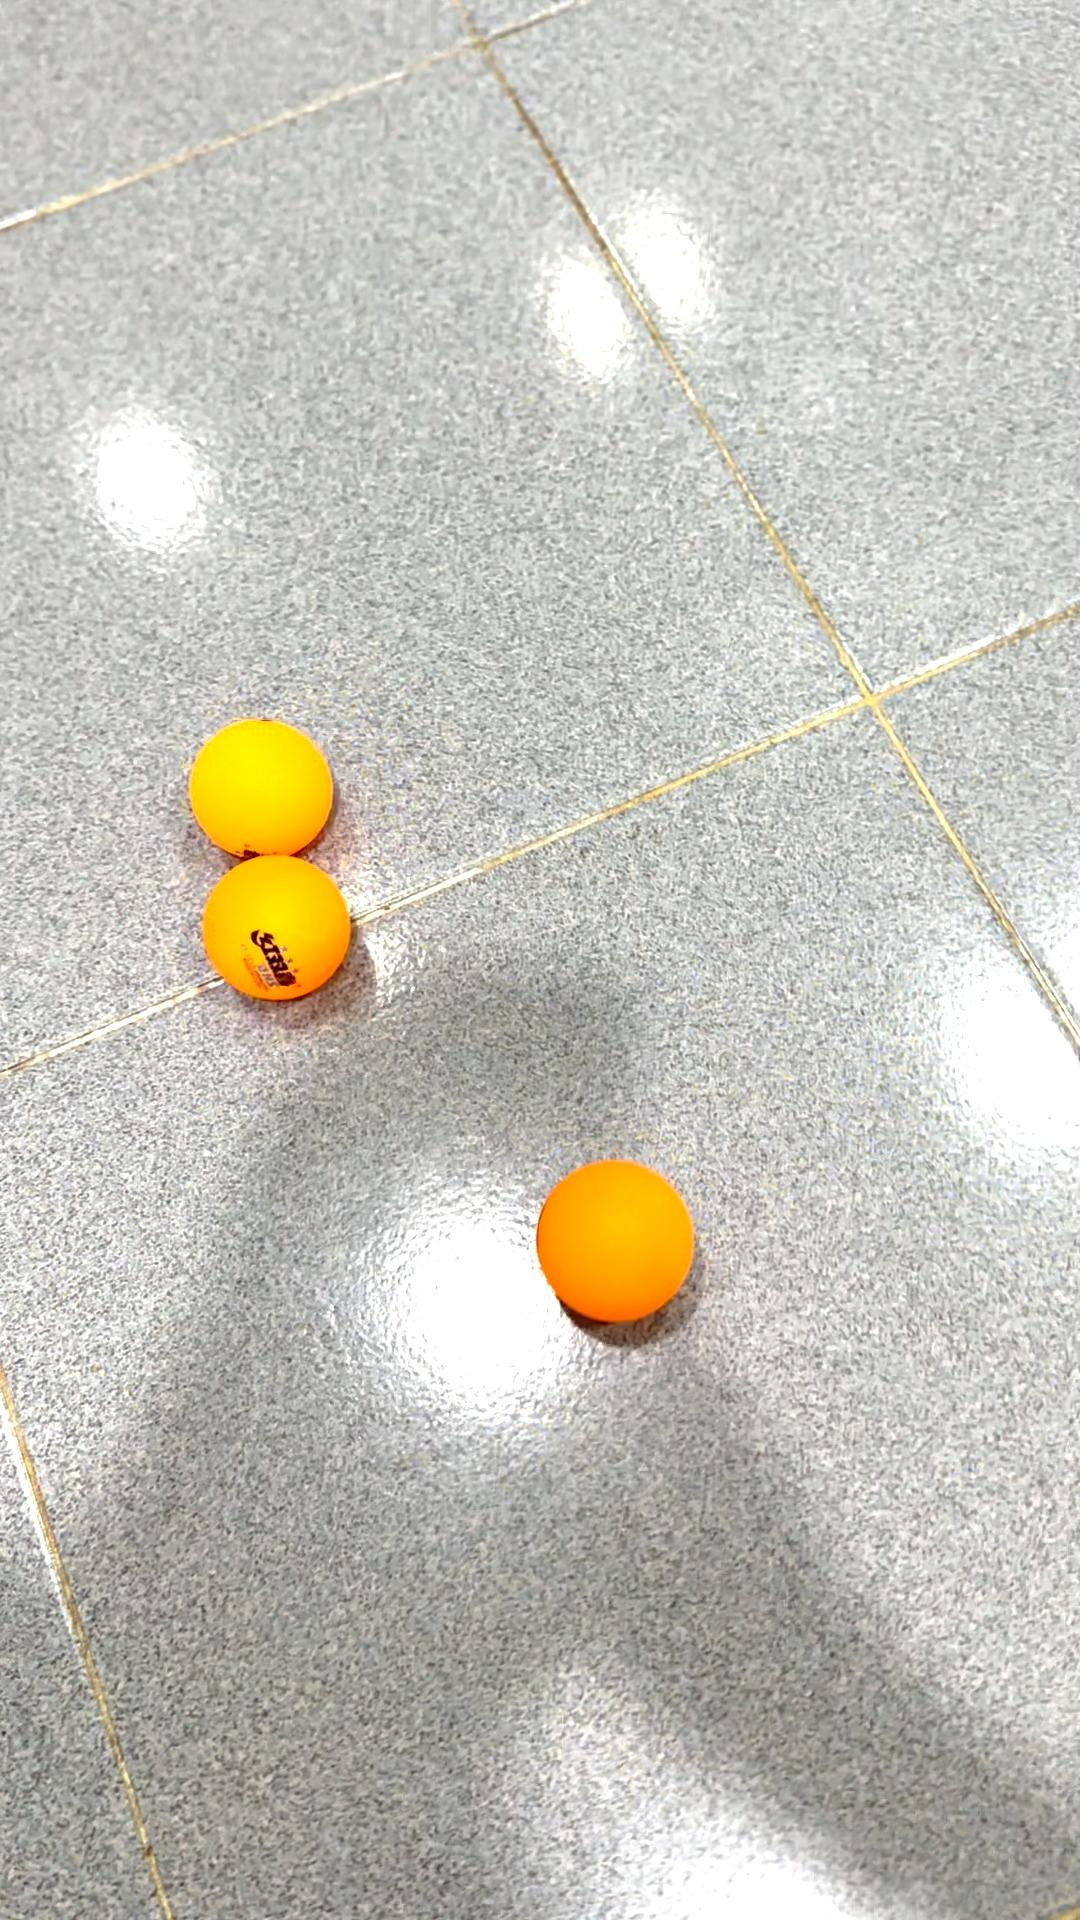oball: (527, 1151, 717, 1344), (194, 857, 361, 1004), (194, 717, 344, 855)
